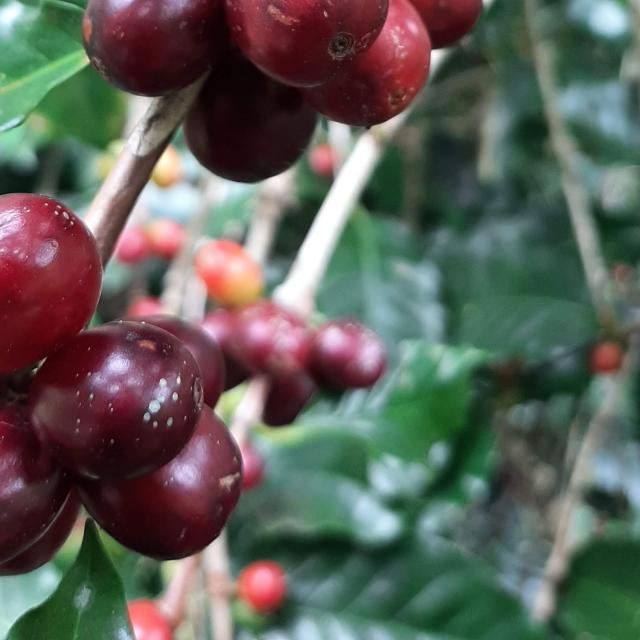red: (29, 322, 203, 480), (78, 406, 242, 561), (0, 193, 102, 374), (183, 48, 317, 182), (300, 0, 431, 126), (224, 0, 389, 87), (82, 0, 226, 95), (0, 403, 70, 563), (124, 314, 225, 408)
